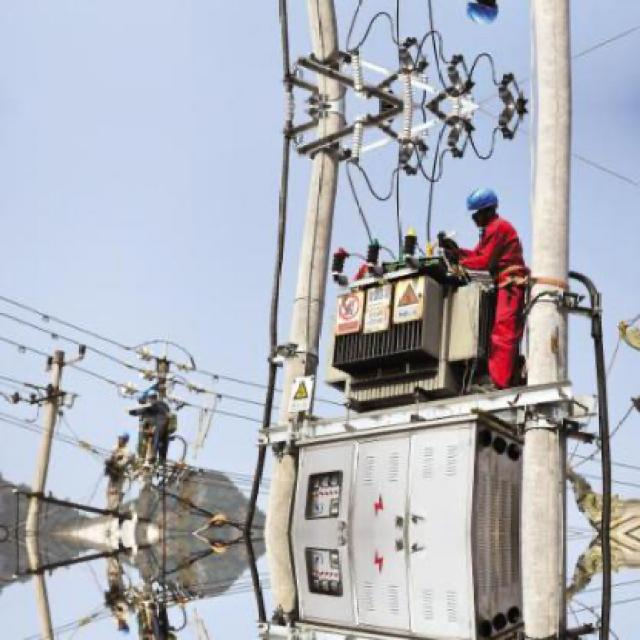helmet: (466, 182, 503, 228), (465, 0, 504, 32), (114, 429, 132, 447), (114, 620, 132, 638), (144, 386, 158, 404)
